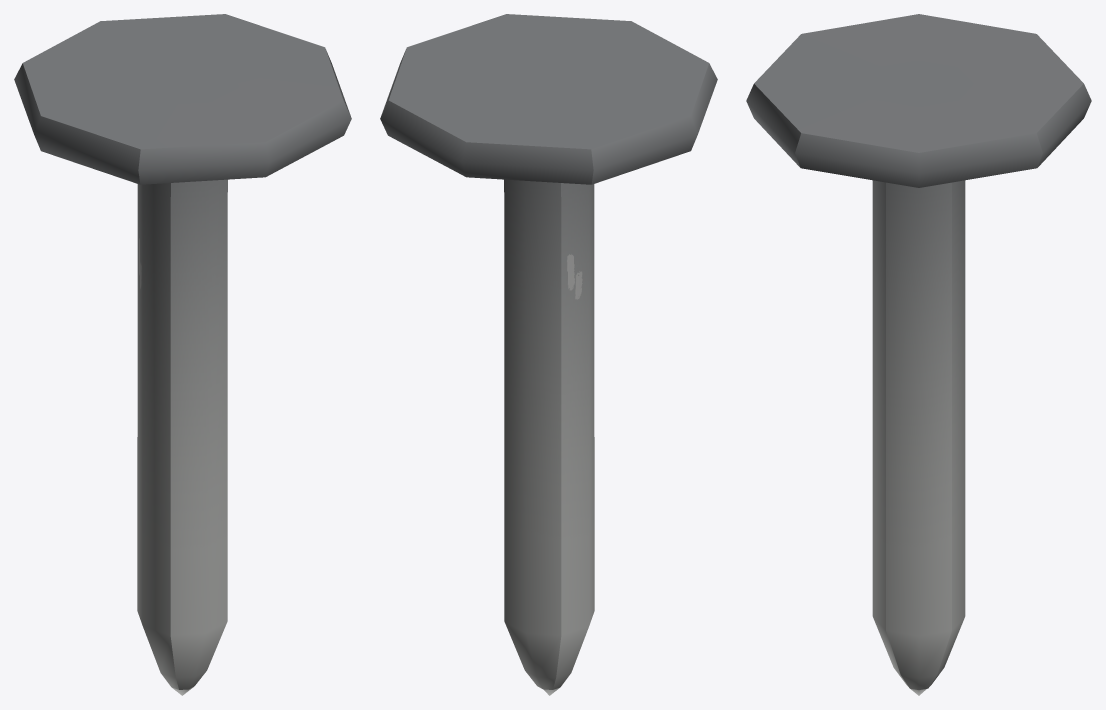
File: nail.fbx
3 views of the same model, side by side, from view 1: azimuth 30°, elevation 25°; view 2: azimuth 150°, elevation 25°; view 3: azimuth 270°, elevation 25° (orthographic).
Visible parts, largest first — view 1: nail; view 2: nail; view 3: nail.
Boxes of the visible parts, x1,y1,x2,y2 form: nail: (14, 14, 351, 695); nail: (380, 14, 717, 695); nail: (746, 14, 1091, 695).
Size of the model in its own units: 3.12 by 6.16 by 3.15.
